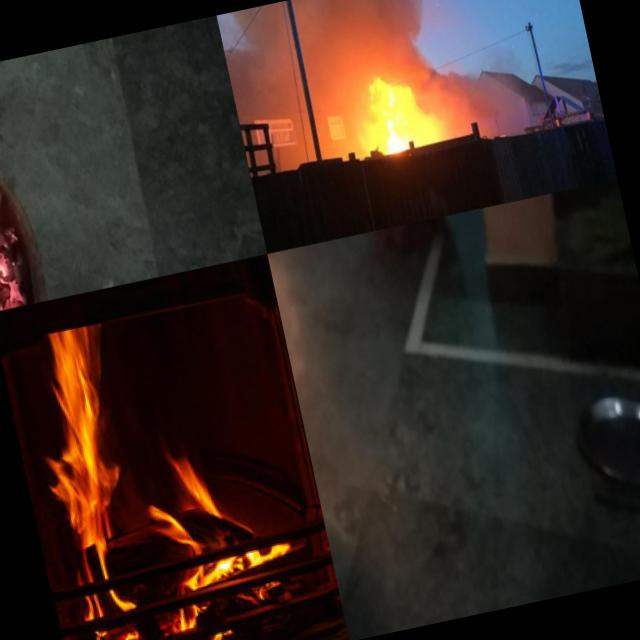fire: (14, 296, 295, 640), (346, 67, 444, 160)
smoke: (233, 0, 443, 110)
